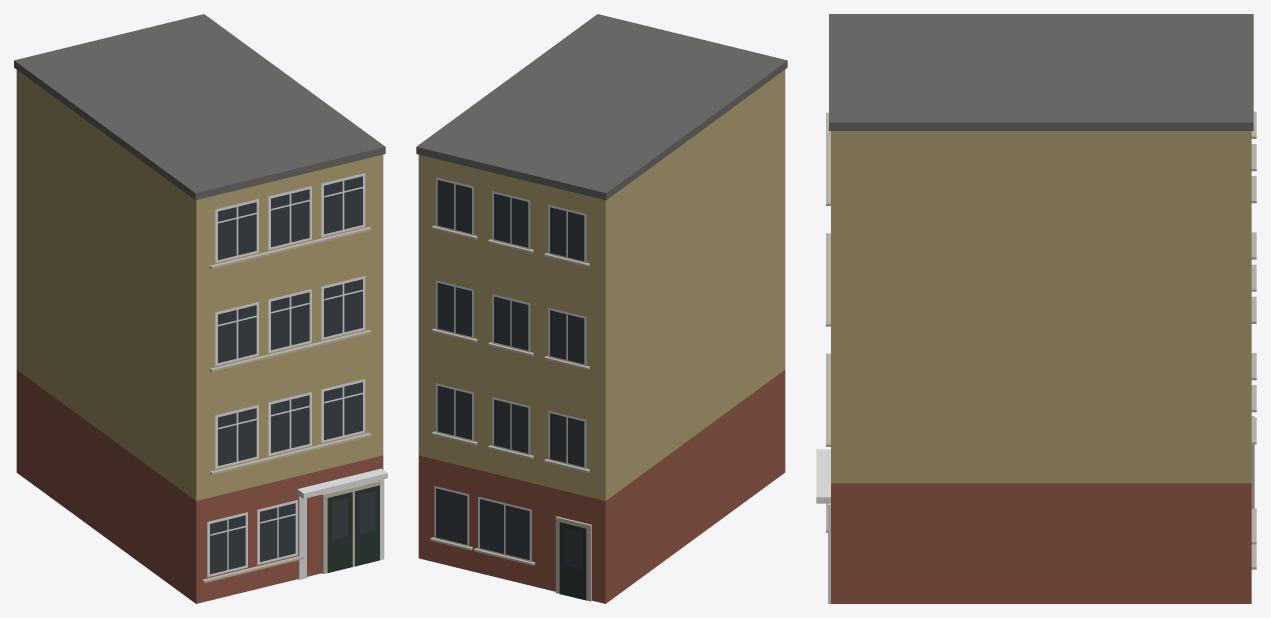
The model's file is we-or-three__shackleton__4__flat__long__solid__mirror.glb.
3 renders of one model, left to right at view 1: azimuth 30°, elevation 25°; view 2: azimuth 150°, elevation 25°; view 3: azimuth 270°, elevation 25°, orthographic. The views are drawn at different scales.
Visible parts, largest first — view 1: we-or-three__shackleton__4__flat__long__solid__mirror; view 2: we-or-three__shackleton__4__flat__long__solid__mirror; view 3: we-or-three__shackleton__4__flat__long__solid__mirror.
Boxes of the visible parts, bbox=[...] form: we-or-three__shackleton__4__flat__long__solid__mirror: bbox=[14, 14, 387, 603]; we-or-three__shackleton__4__flat__long__solid__mirror: bbox=[416, 14, 787, 603]; we-or-three__shackleton__4__flat__long__solid__mirror: bbox=[816, 14, 1256, 603].
Bounding box in the file's own units: 6.09 × 12.6 × 10.43.
